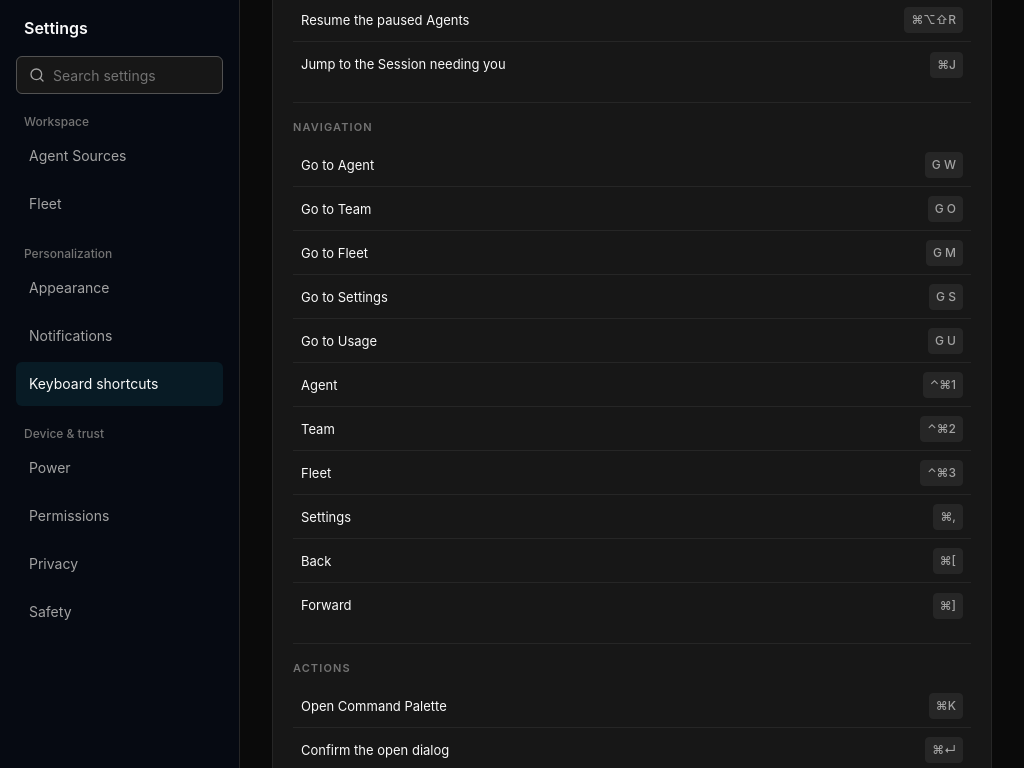
Test: shortcut settings policy › warns without blocking when system prefs cannot be read (web fallback)
(page scrolled)
Click the button "⌃⌘1". click: (943, 384)
box: [923,371,963,398]
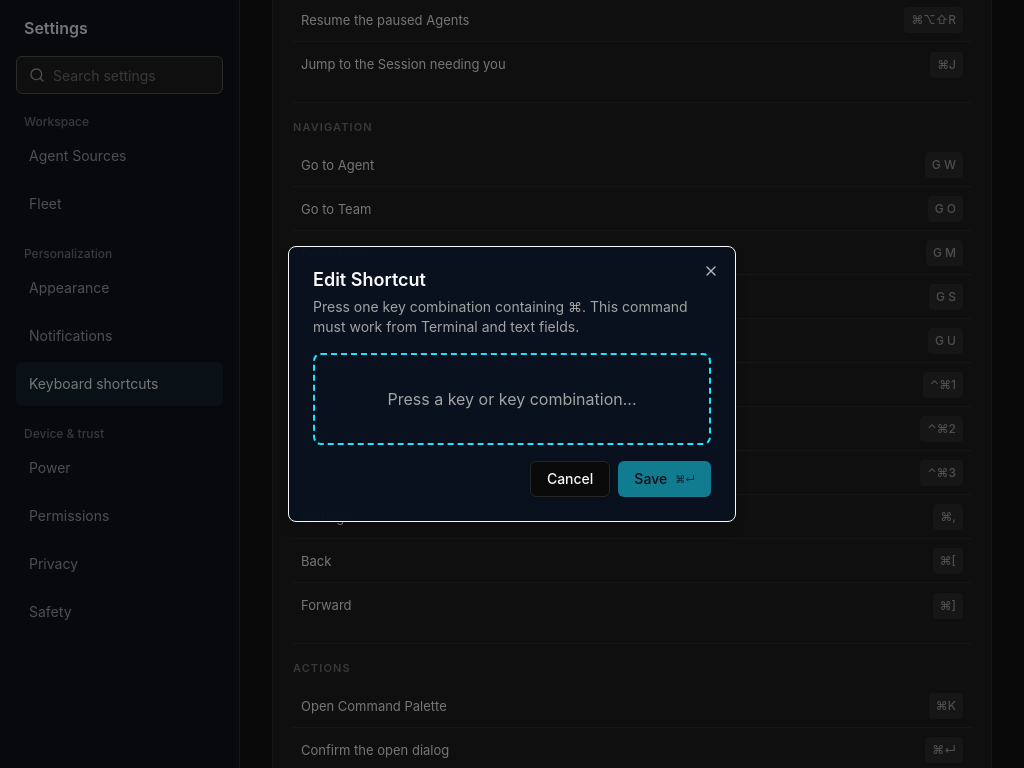
Press $ in the element showing "Press a key or key combination...", box [313,353,711,445]
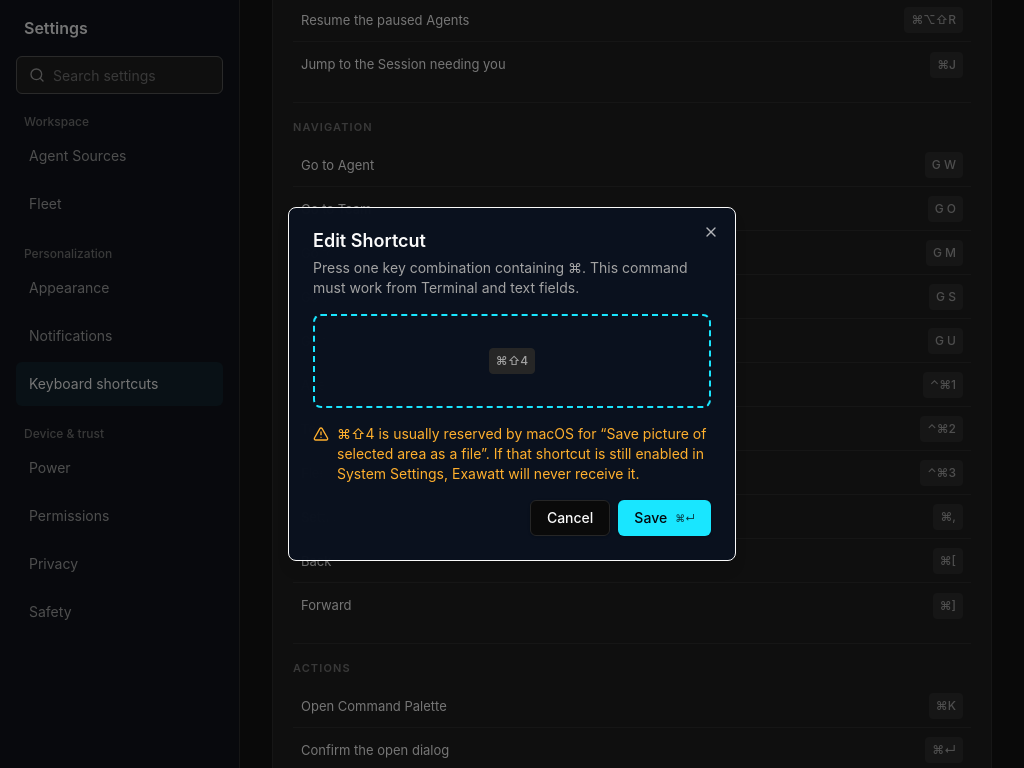
Now the text "usually reserved by macOS" is shown, box [337,425,706,482]
Now the button "Save ⌘↵" is enabled, box [618,500,711,536]
